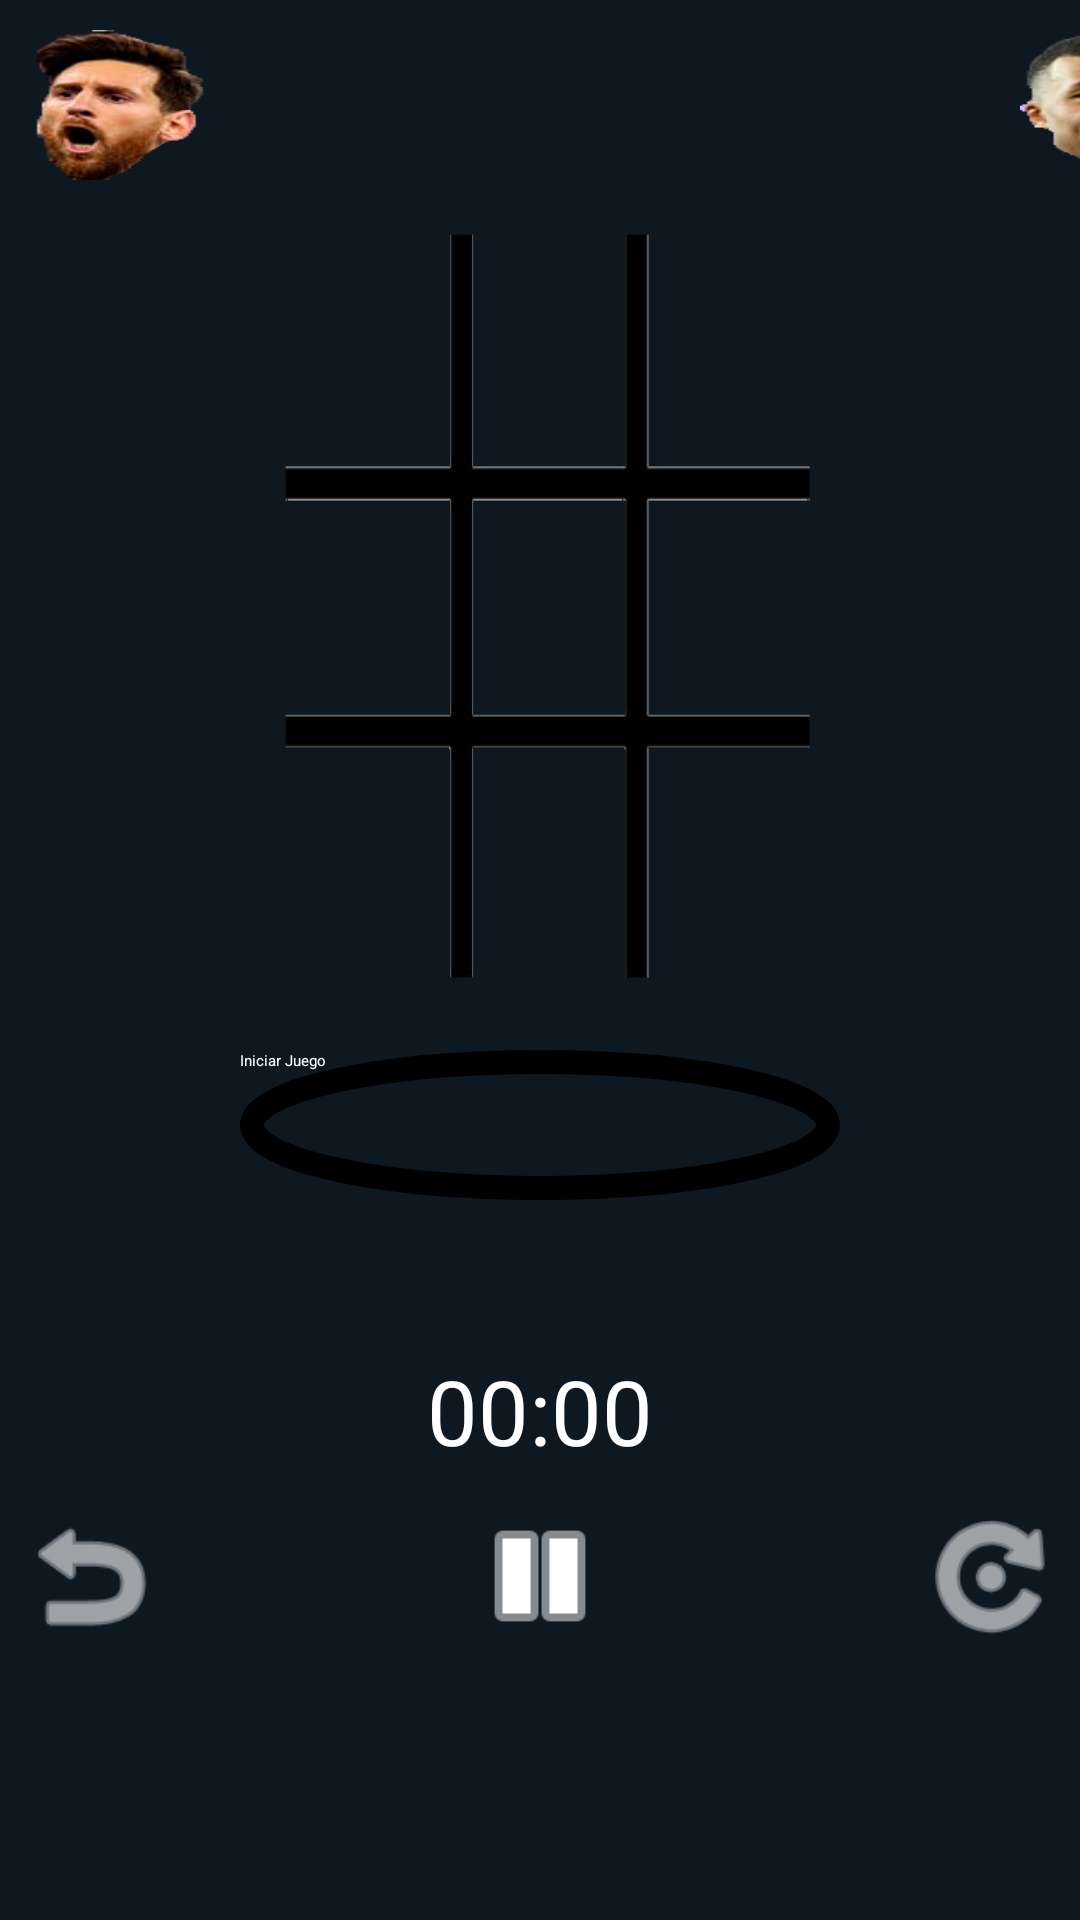

Icons on this 1080 x 1920 Android screen, each with the point to tap as (x=x, y=y):
pause: (x=540, y=1576)
revert: (x=92, y=1577)
rotate: (x=990, y=1577)
